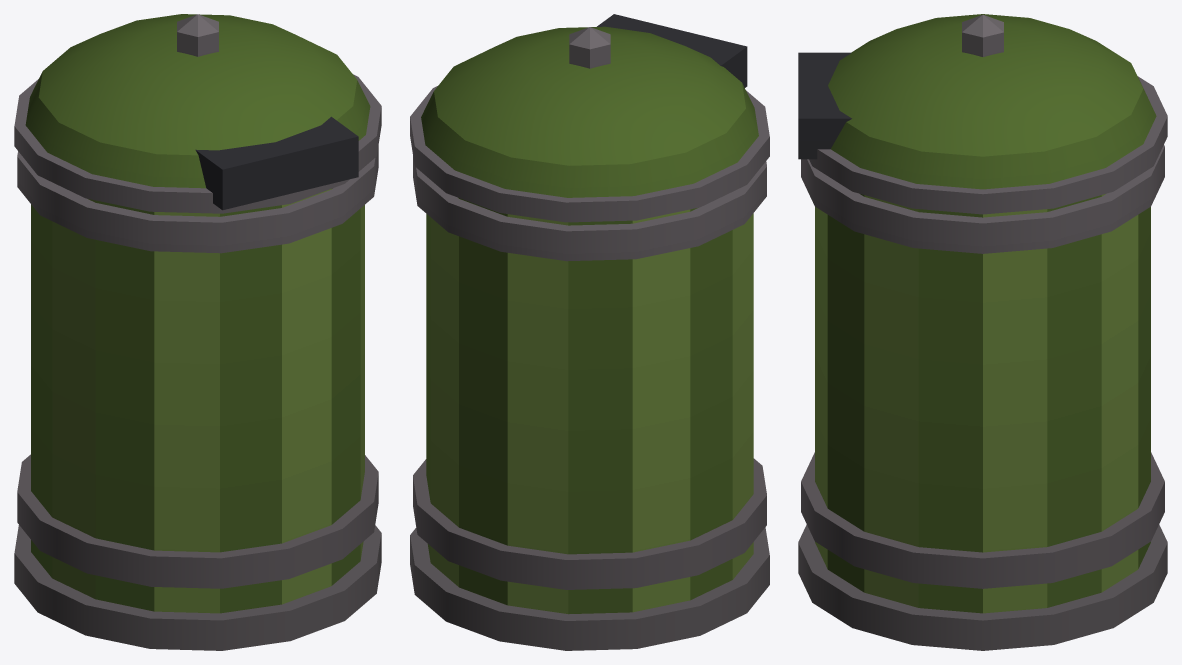
File: park_bin.glb
The picture shows the model from 3 angles, left to right: view 1: azimuth 30°, elevation 25°; view 2: azimuth 150°, elevation 25°; view 3: azimuth 270°, elevation 25°; orthographic projection. The views are drawn at different scales.
Visible parts, largest first — view 1: park_bin; view 2: park_bin; view 3: park_bin.
Part boxes in pixels (x1,y1,x2,y2): park_bin: (14, 14, 381, 650); park_bin: (410, 14, 769, 650); park_bin: (798, 14, 1167, 650).
Size of the model in its own units: 0.66 by 1.1 by 0.66.
1 material, 1 textured.
